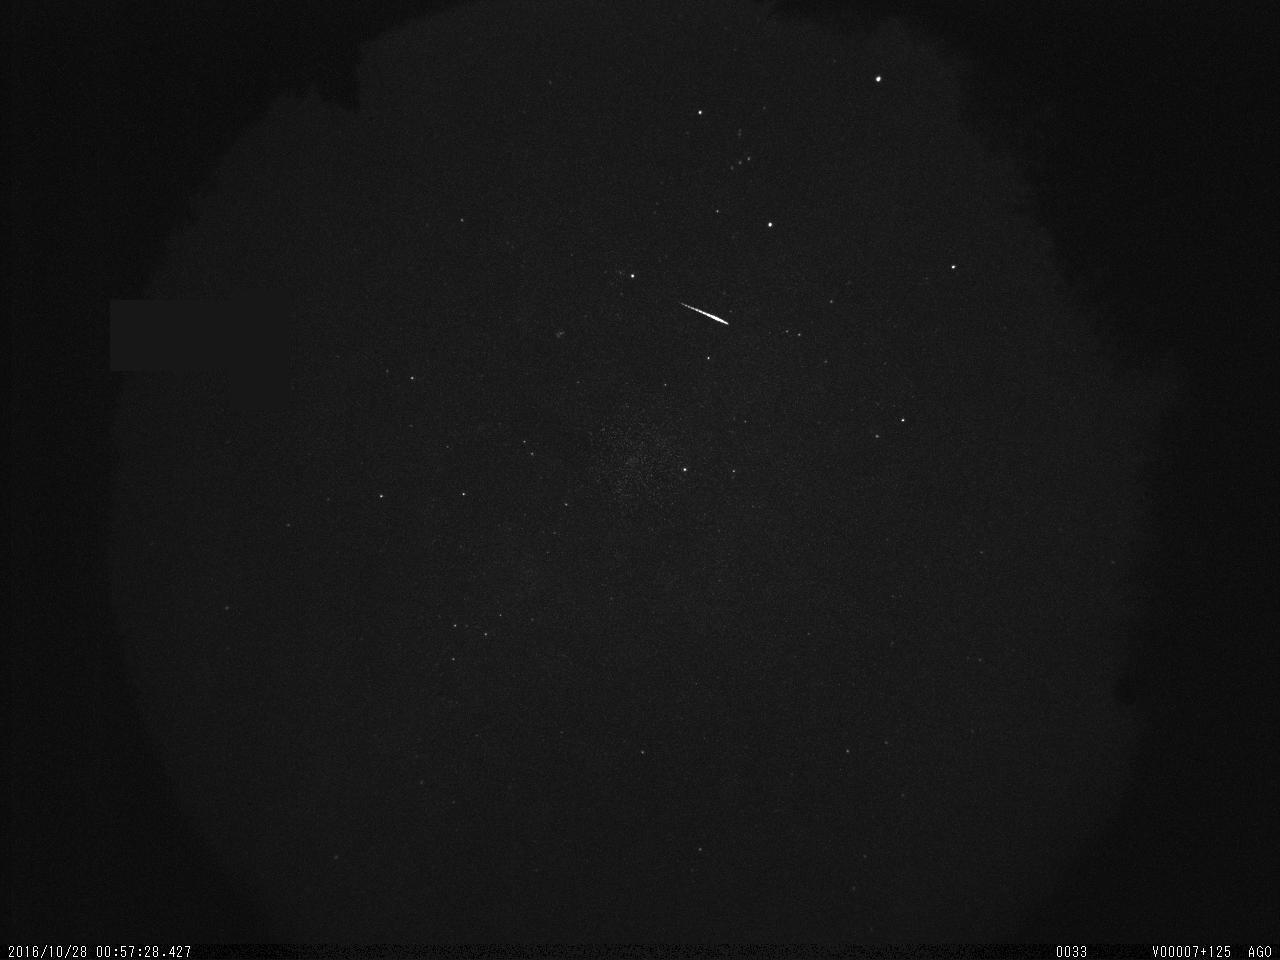meteor: (669, 296, 736, 332)
